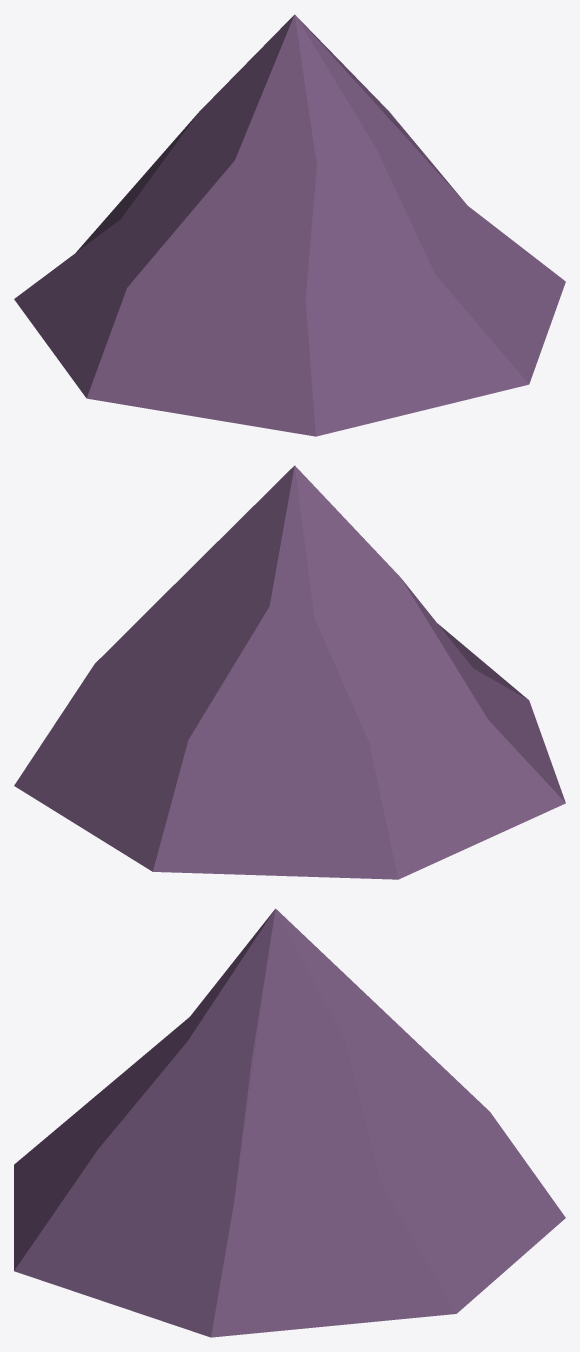
File: peak_0.glb
3 views of the same model, one above another, from view 1: azimuth 30°, elevation 25°; view 2: azimuth 150°, elevation 25°; view 3: azimuth 270°, elevation 25° (orthographic). The views are drawn at different scales.
Visible parts, largest first — view 1: peak_0; view 2: peak_0; view 3: peak_0.
Part boxes in pixels (x1,y1,x2,y2): peak_0: (14, 14, 565, 436); peak_0: (14, 465, 565, 879); peak_0: (14, 908, 565, 1337).
Bounding box in the file's own units: 166 × 100 × 162.
